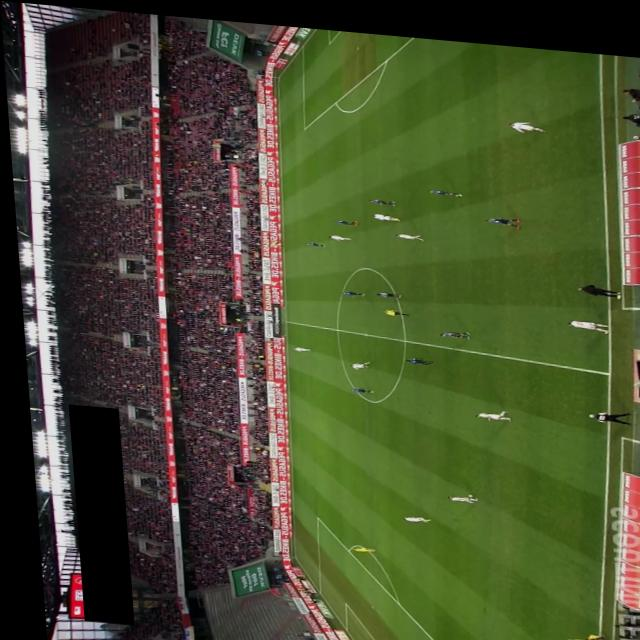goalkeeper: (342, 539, 368, 547)
player: (561, 308, 605, 323), (468, 398, 506, 413), (506, 110, 545, 124), (481, 206, 518, 219), (439, 485, 472, 495), (434, 321, 466, 331), (425, 180, 459, 188), (391, 224, 421, 233), (400, 350, 431, 358), (344, 353, 366, 364), (368, 206, 398, 214), (366, 191, 394, 199), (395, 508, 423, 516), (371, 284, 398, 292), (331, 211, 356, 219), (337, 283, 362, 291), (345, 380, 369, 387), (325, 228, 349, 235), (288, 340, 306, 347), (303, 235, 321, 241)
referee: (558, 622, 599, 636), (378, 301, 405, 309), (264, 236, 282, 241)
